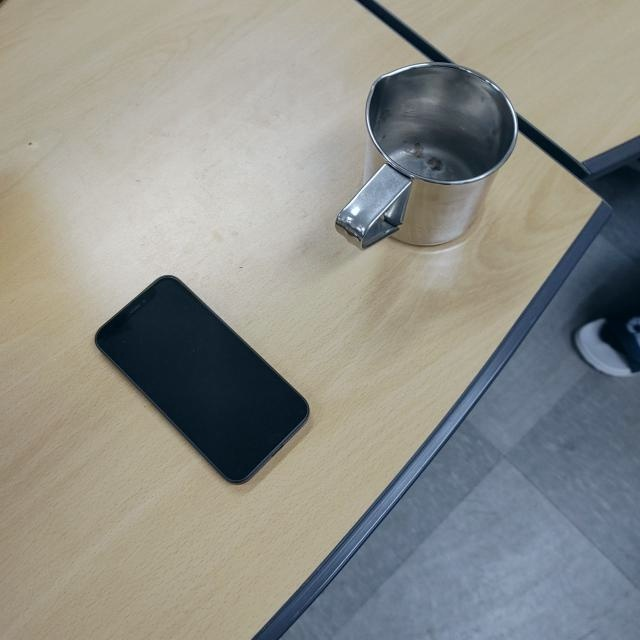cup: (93, 275, 311, 485), (336, 60, 517, 255)
